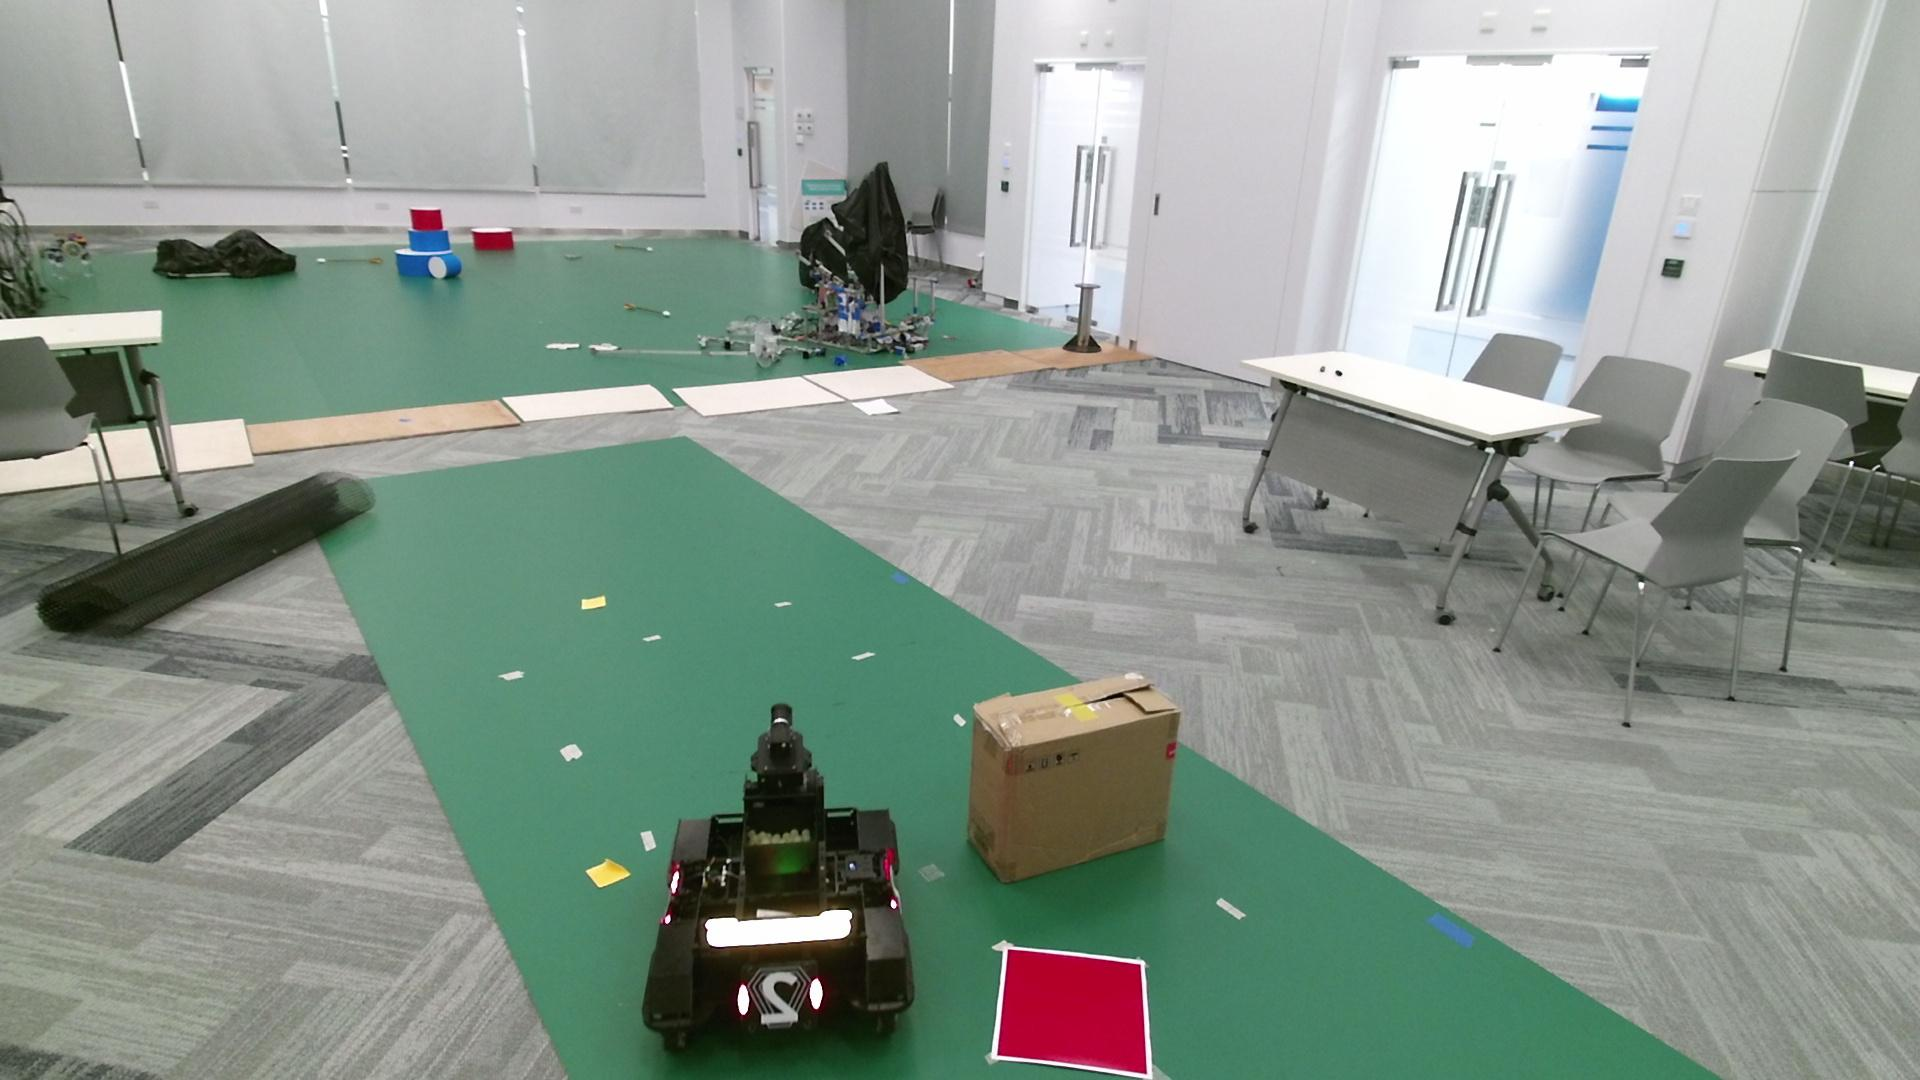robot: (641, 703, 916, 1058)
